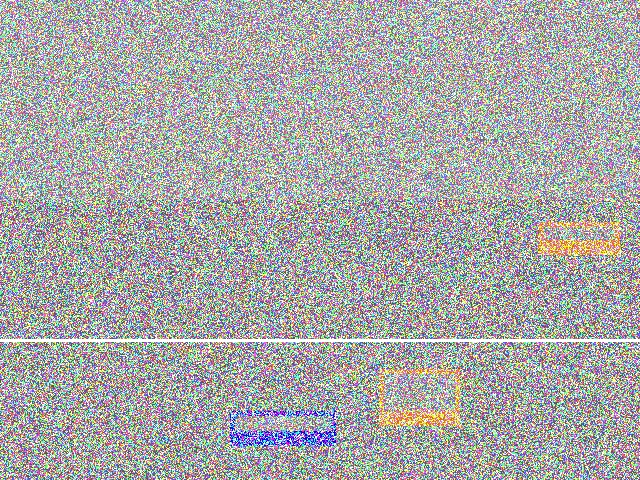motorcycle: (139, 273, 259, 345)
truck: (182, 241, 321, 371), (41, 259, 150, 312)
